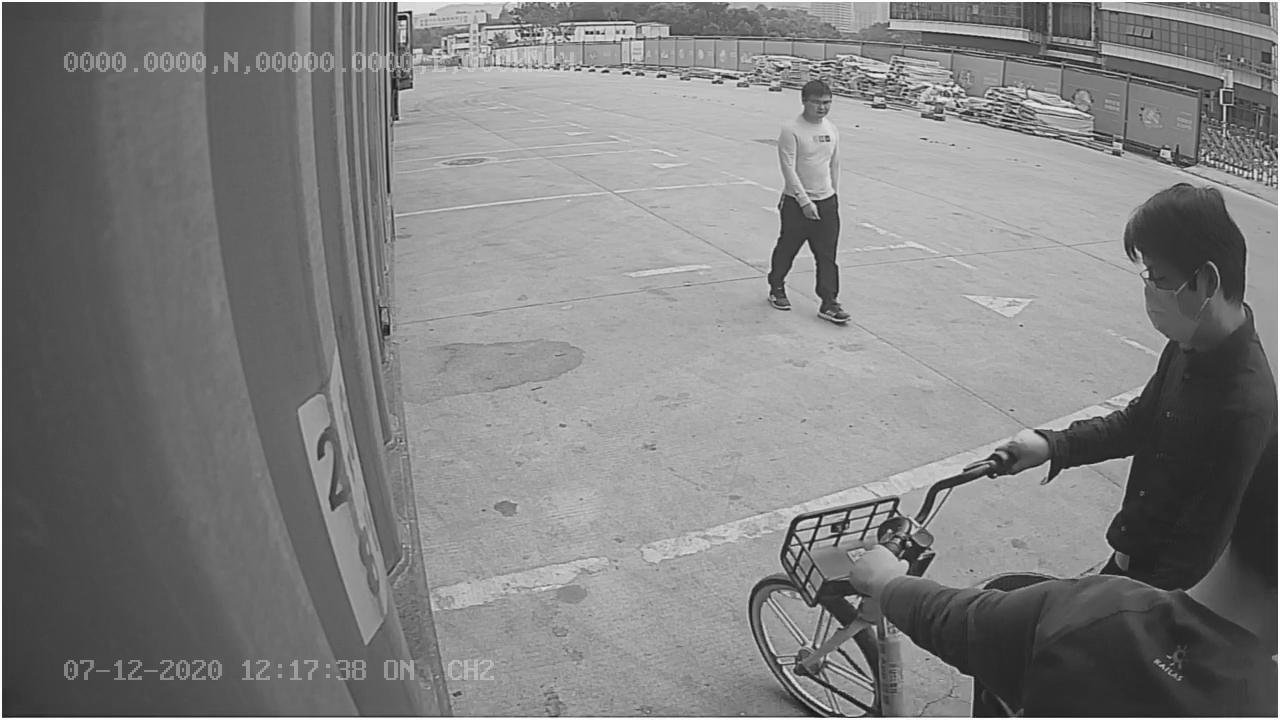person: (756, 79, 856, 323)
